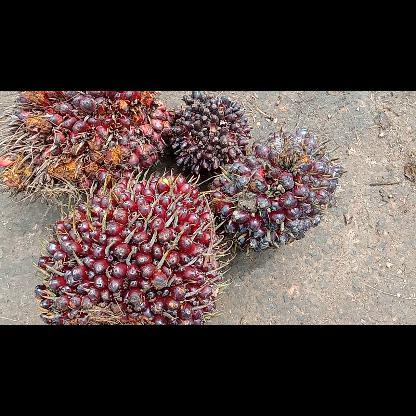Kurang masak: (33, 174, 227, 324), (207, 128, 345, 252)
TBS abnormal: (168, 91, 254, 177)
TBS masak: (0, 92, 171, 199)
